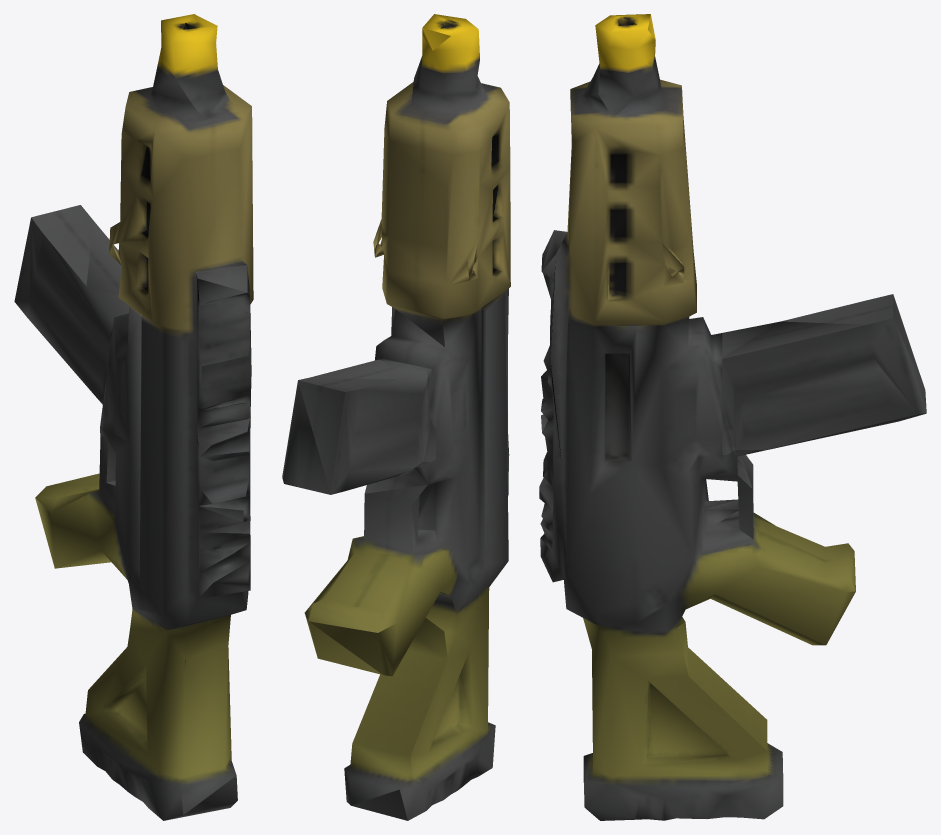
The picture shows the model from 3 angles, left to right: view 1: azimuth 30°, elevation 25°; view 2: azimuth 150°, elevation 25°; view 3: azimuth 270°, elevation 25°; orthographic projection. The views are drawn at different scales.
Visible parts, largest first — view 1: k47, part_mag; view 2: k47, part_mag; view 3: k47, part_mag.
Boxes of the visible parts, x1,y1,x2,y2 form: k47: [35, 14, 253, 820]; part_mag: [14, 205, 128, 411]; k47: [284, 14, 510, 820]; part_mag: [282, 359, 436, 494]; k47: [539, 14, 926, 820]; part_mag: [722, 294, 926, 454].
Size of the model in its own units: 0.1242 by 0.9179 by 0.4106.
1 material, 1 textured.
